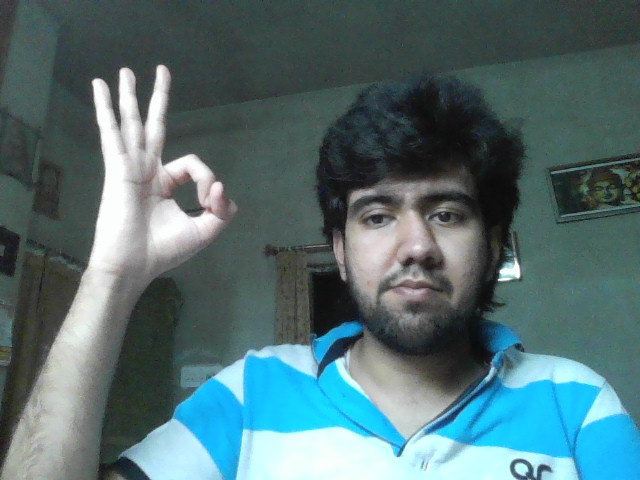Nice: (91, 65, 237, 268)
